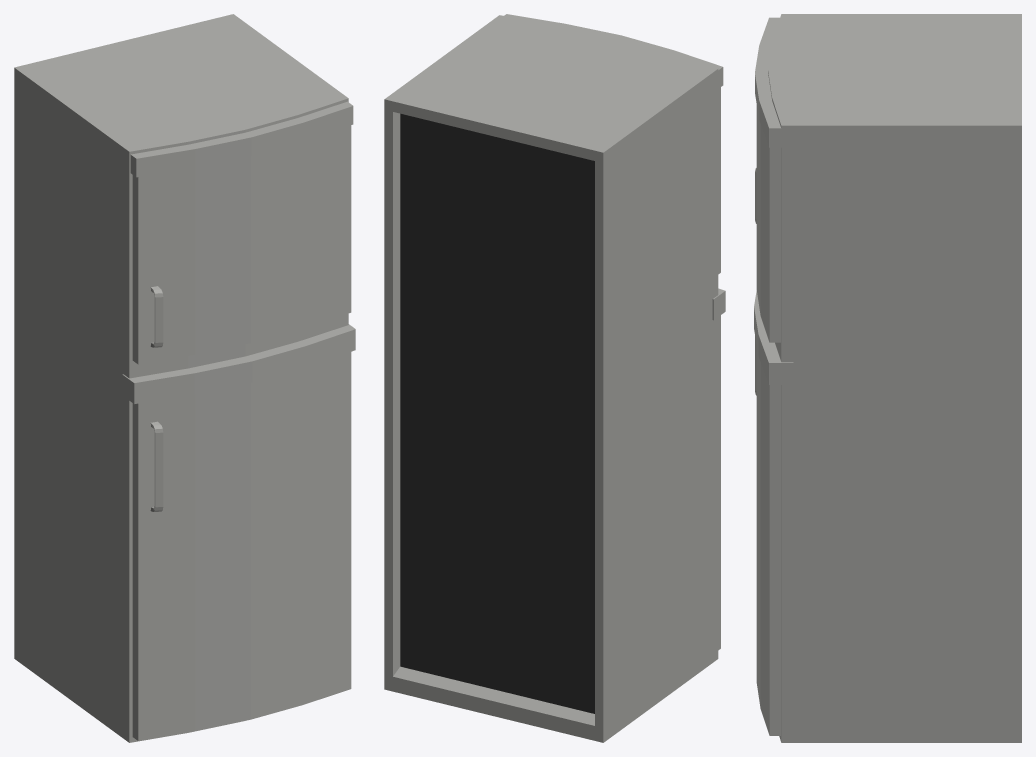
Rendered from home_kitchen_fridge.fbx.
3 renders of one model, left to right at view 1: azimuth 30°, elevation 25°; view 2: azimuth 150°, elevation 25°; view 3: azimuth 270°, elevation 25°, orthographic. The views are drawn at different scales.
Parts seen in each view (by area): view 1: home_kitchen_fridge_LOD0; view 2: home_kitchen_fridge_LOD0; view 3: home_kitchen_fridge_LOD0.
Part boxes in pixels (box(x1,y1,x2,y2)): home_kitchen_fridge_LOD0: box(14, 14, 355, 742); home_kitchen_fridge_LOD0: box(384, 14, 725, 742); home_kitchen_fridge_LOD0: box(754, 14, 1021, 742).
Size of what is drawn, in the model's own units: 0.7452 by 1.9 by 0.7476.
